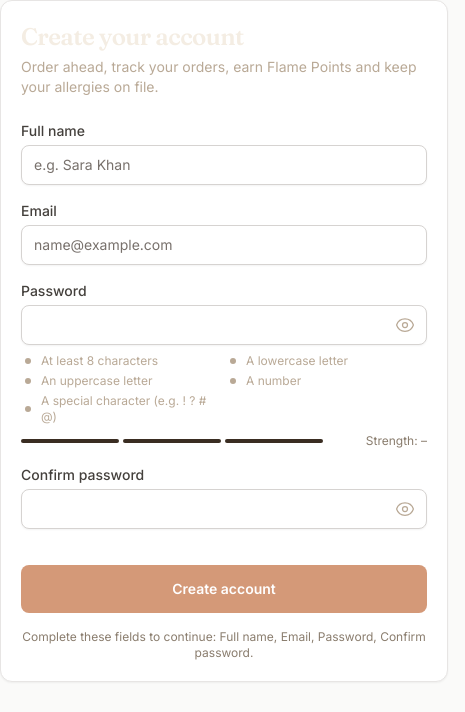
it: RegisterForm › shows the server error (e.g. duplicate email) without crashing
The image size is (465, 712).
Type "Nina New" into the field labelled "Full name" at (224, 165), box top-left (21, 145), bottom-right (427, 185)
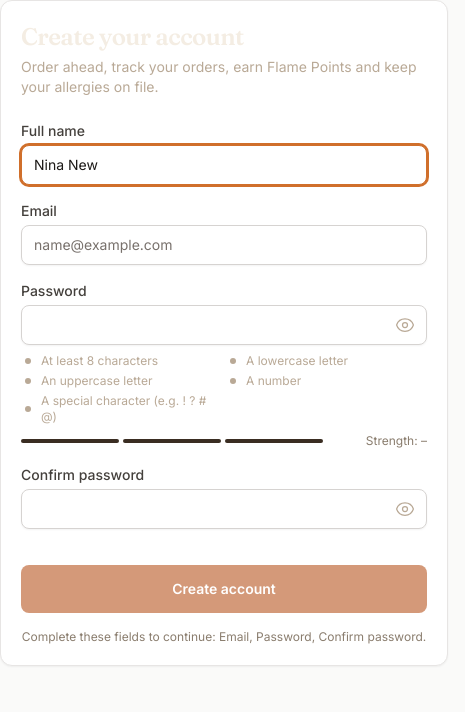
Type "nina@example.com" into the field labelled "Email" at (224, 245), box top-left (21, 225), bottom-right (427, 265)
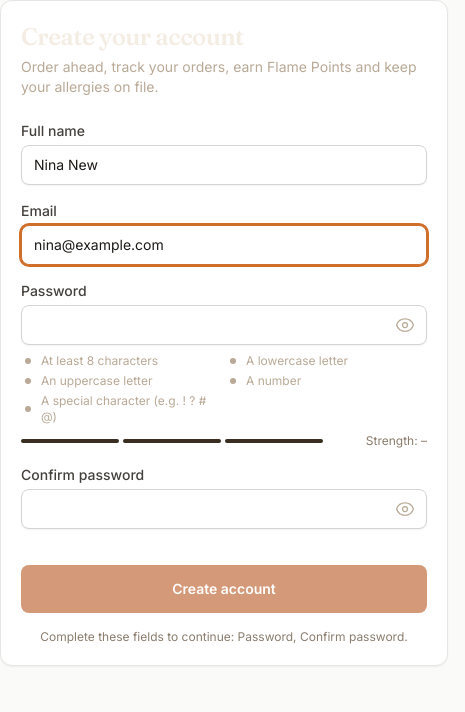
Type "Ember-grill7" into the password field labelled "Password" at (224, 325), box top-left (21, 305), bottom-right (427, 345)
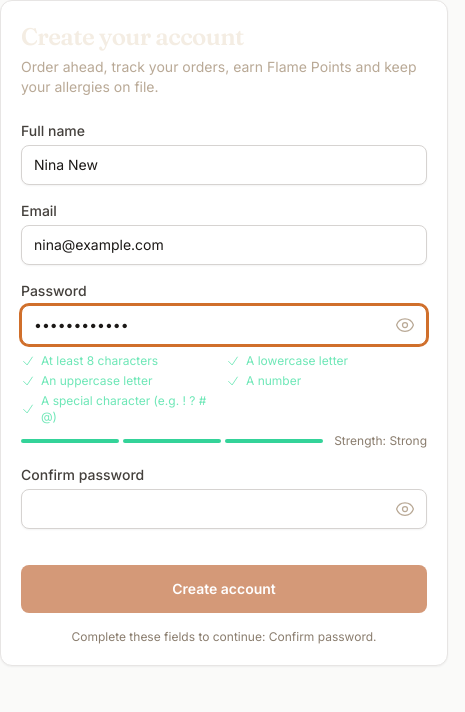
Type "Ember-grill7" into the password field labelled "Confirm password" at (224, 509), box top-left (21, 489), bottom-right (427, 529)
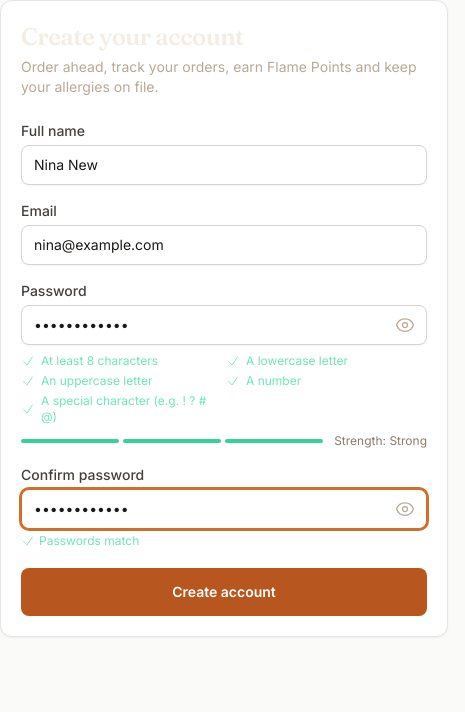
Click the button "Create account" at (224, 592), box top-left (21, 568), bottom-right (427, 616)
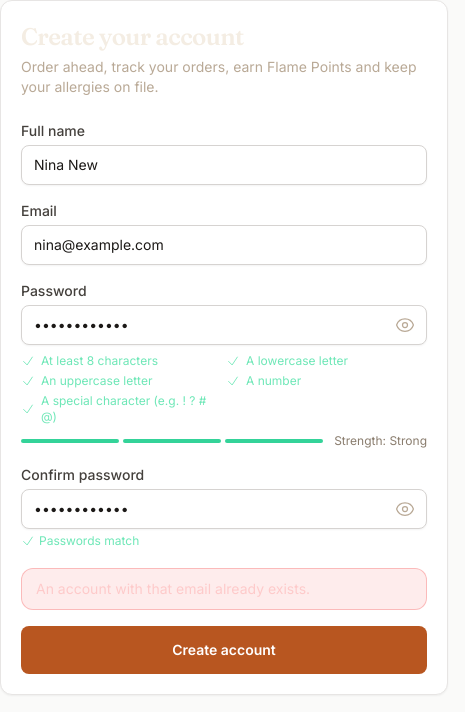
expect the message reads "An account with that email already exists.": met, box top-left (36, 580), bottom-right (310, 597)
